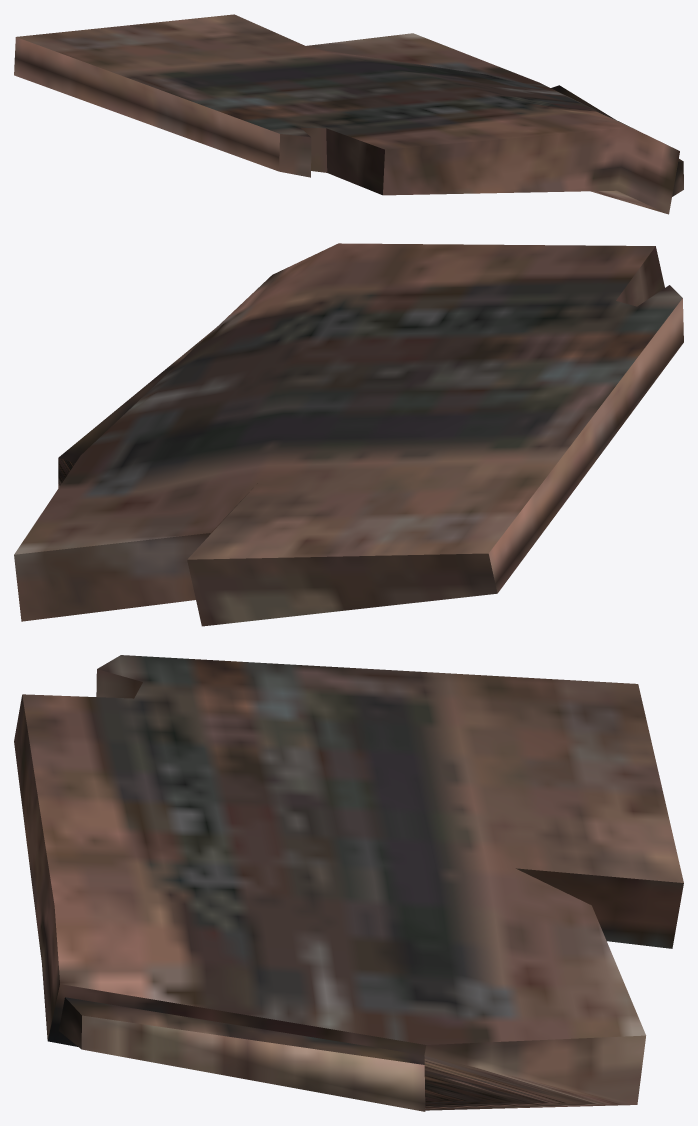
The model's file is debris_tradefed_hulk_radial_s01_l3.fbx.
3 renders of one model, top to bottom at view 1: azimuth 30°, elevation 25°; view 2: azimuth 150°, elevation 25°; view 3: azimuth 270°, elevation 25°, orthographic. The views are drawn at different scales.
Parts seen in each view (by area): view 1: mesh_node; view 2: mesh_node; view 3: mesh_node.
Boxes of the visible parts, x1=… form: mesh_node: x1=14, y1=14, x2=683, y2=214; mesh_node: x1=14, y1=243, x2=683, y2=626; mesh_node: x1=14, y1=655, x2=683, y2=1111.
Size of the model in its own units: 4.78 by 2.02 by 5.01.
1 material, 1 textured.
